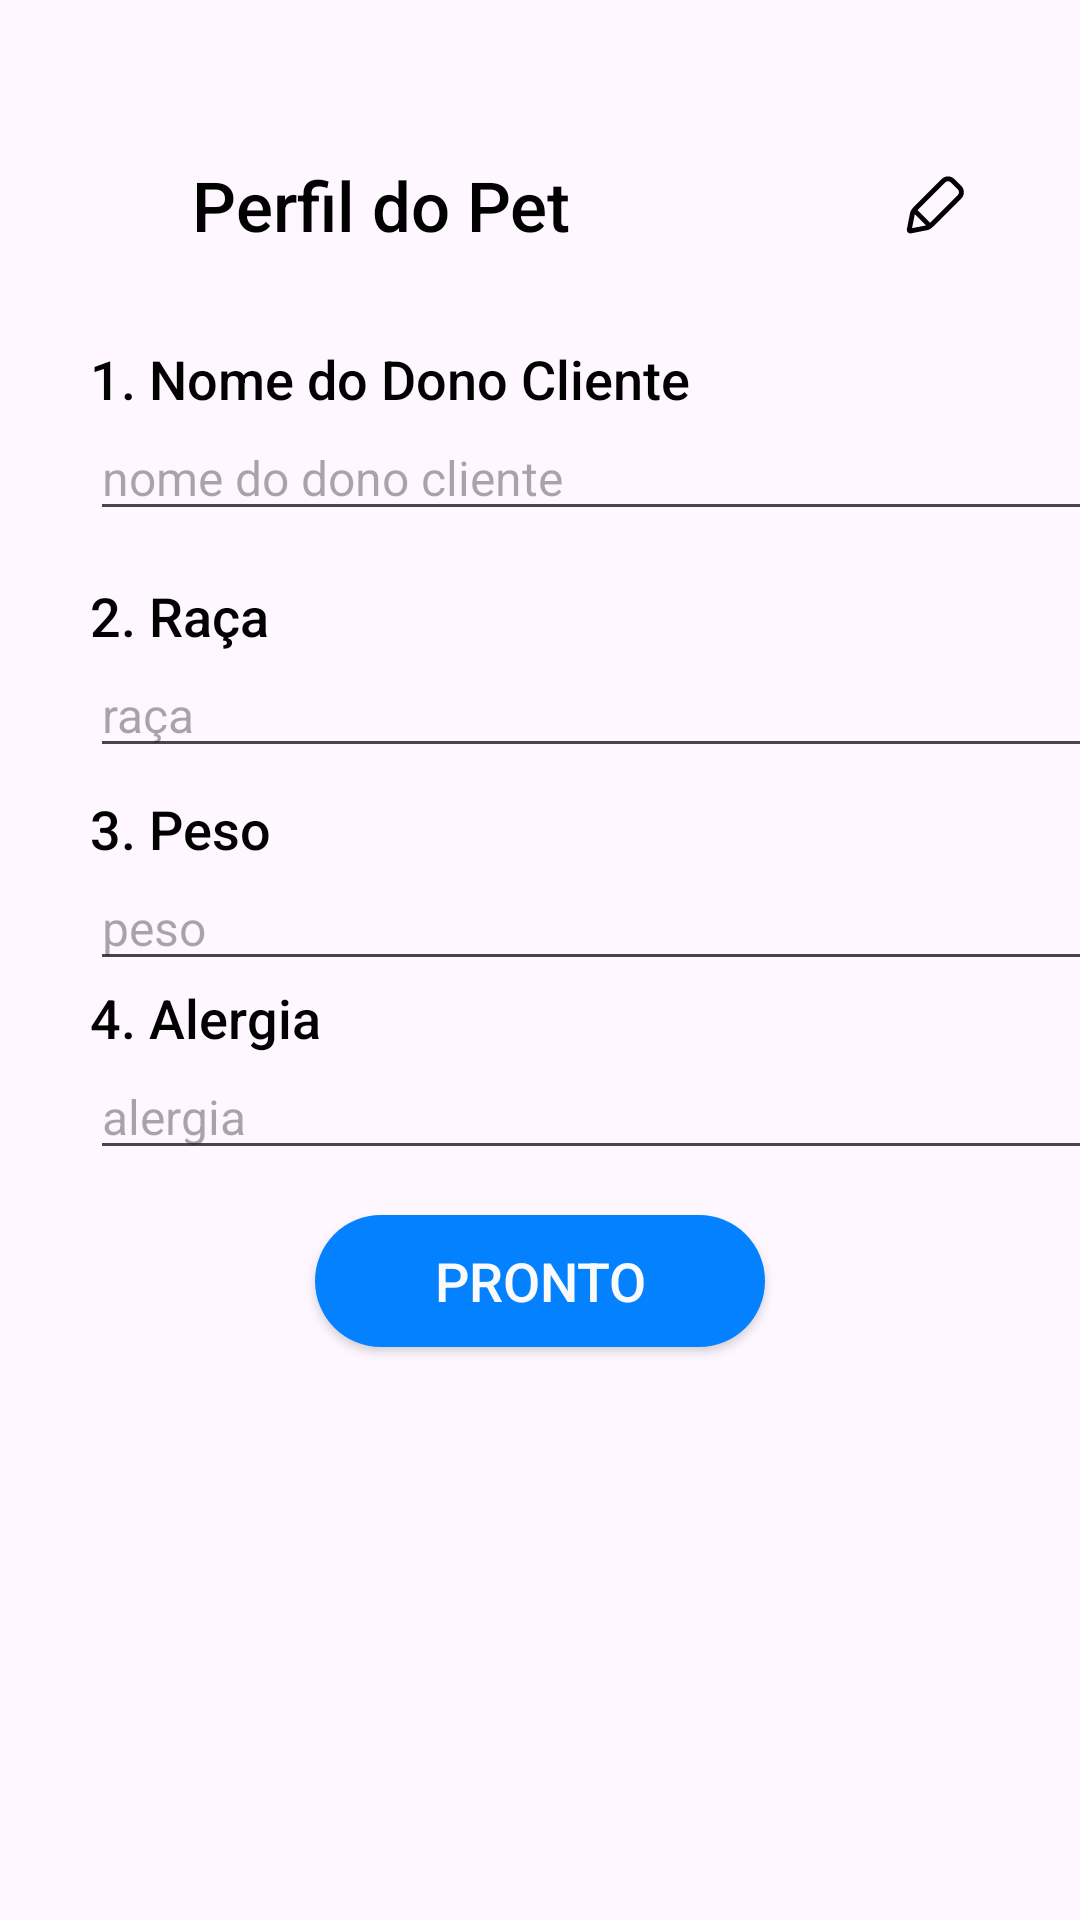

Icon bounding boxes for this 1080w x 1920h phone screenshot, format (x1, y1, x2, y2):
edit pen: (906, 176, 964, 234)
